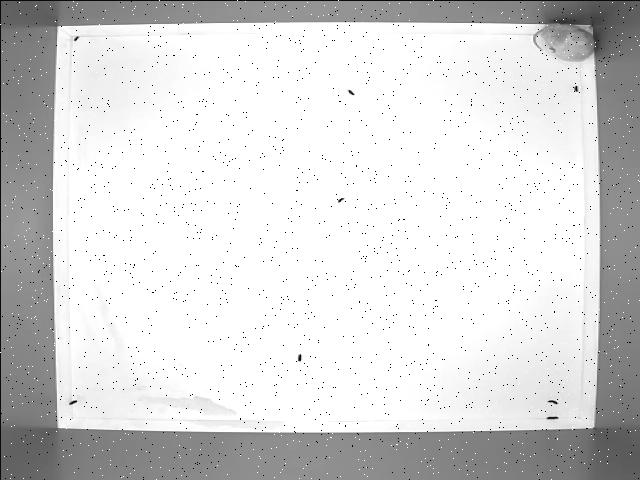Tikus: (529, 18, 598, 65)
